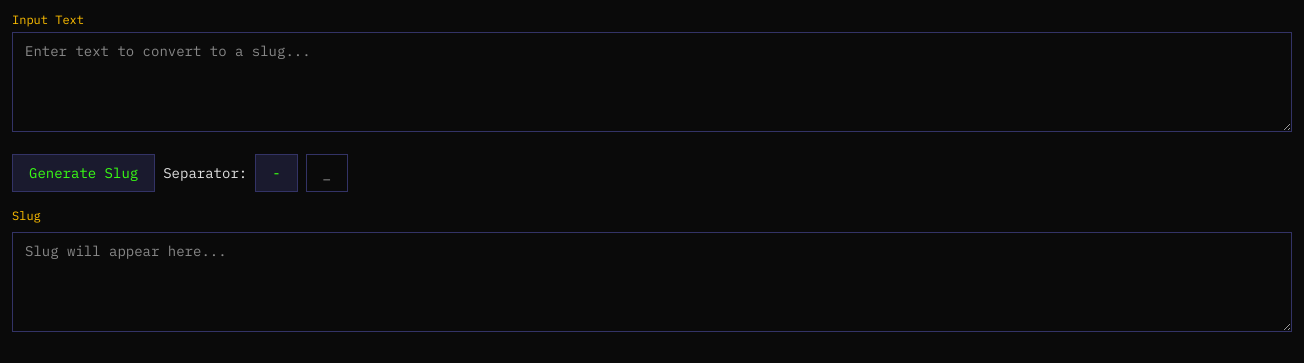
Test case: SlugGenerator › copies the slug to the clipboard when the copy button is clicked
The image size is (1304, 363).
Step 1. Type "Hello World" into the text box labelled "Input Text" → {"x": 652, "y": 82}, box [12, 32, 1292, 132]
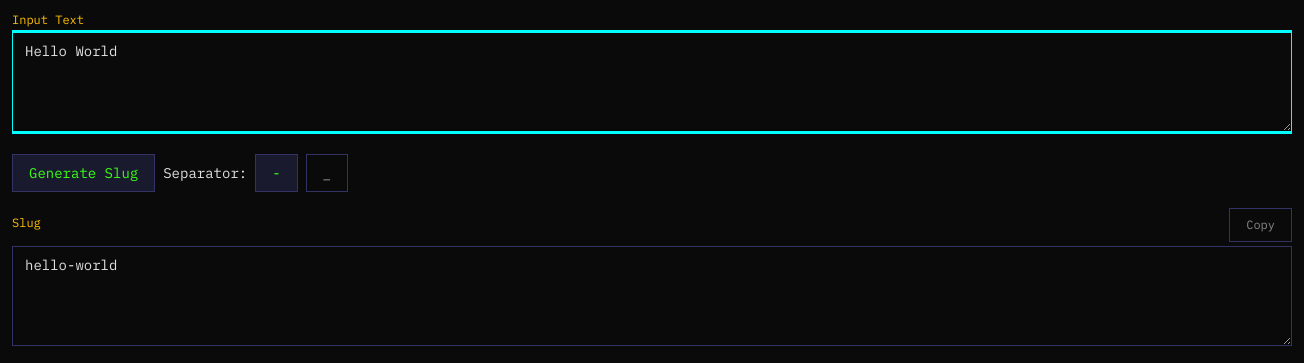
Step 2. Click the button "Copy" → {"x": 1261, "y": 225}, box [1229, 208, 1292, 242]
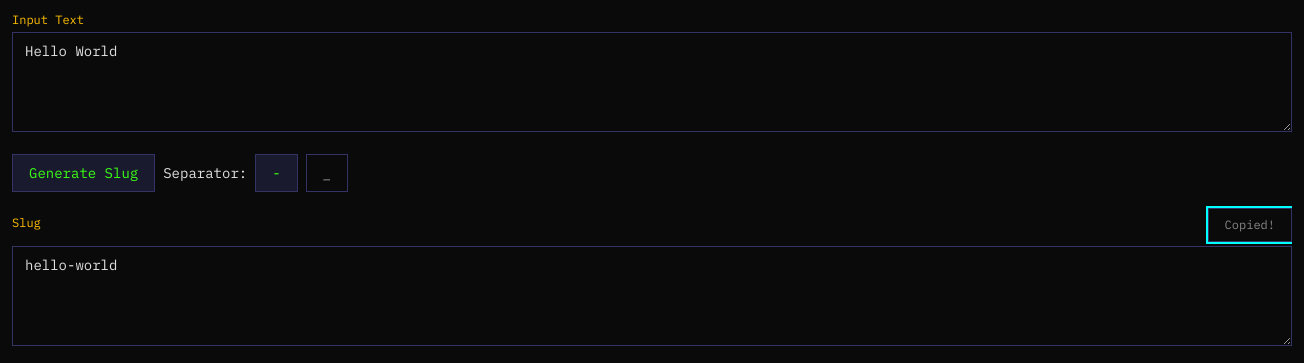
expect the button "Copied!" is shown: met, box [1208, 208, 1292, 242]
